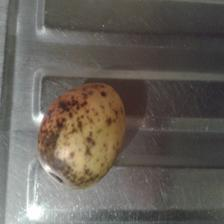Mango Semirotten: (32, 77, 128, 192)
